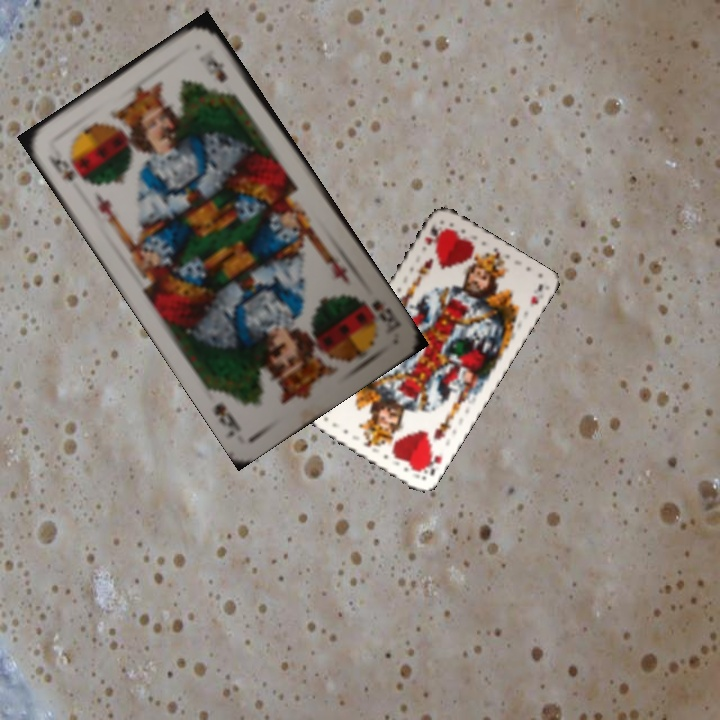HK: (416, 447, 445, 478), (421, 221, 445, 249)
SK: (46, 151, 89, 188), (368, 295, 400, 336)
